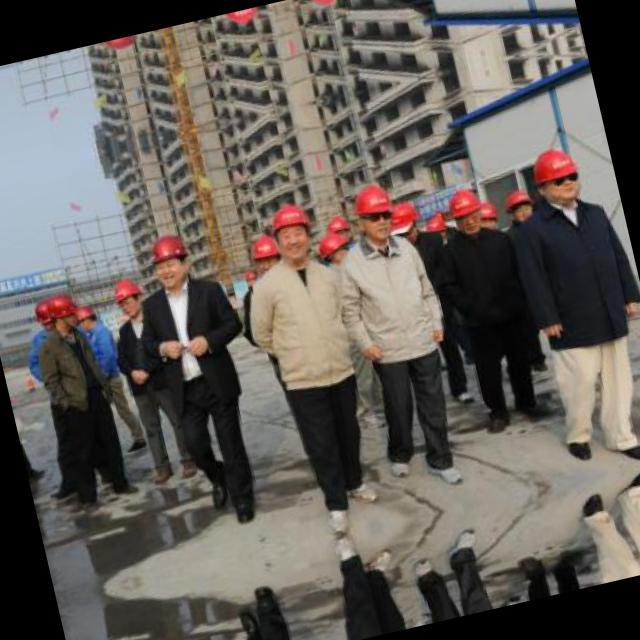helmet: (524, 142, 586, 210), (264, 195, 318, 262), (143, 228, 197, 292), (346, 180, 399, 243), (442, 184, 488, 237), (389, 194, 429, 250), (314, 226, 354, 274), (108, 272, 148, 320), (244, 231, 283, 277), (499, 186, 537, 226), (42, 286, 74, 332), (473, 194, 504, 238), (220, 5, 268, 33), (70, 298, 102, 336), (30, 297, 56, 341), (98, 32, 145, 56), (301, 0, 346, 10)
